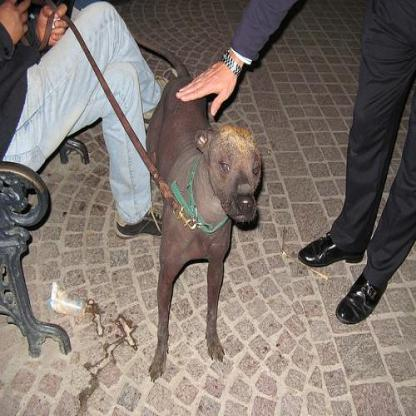Mexican_hairless: (123, 26, 260, 382)
